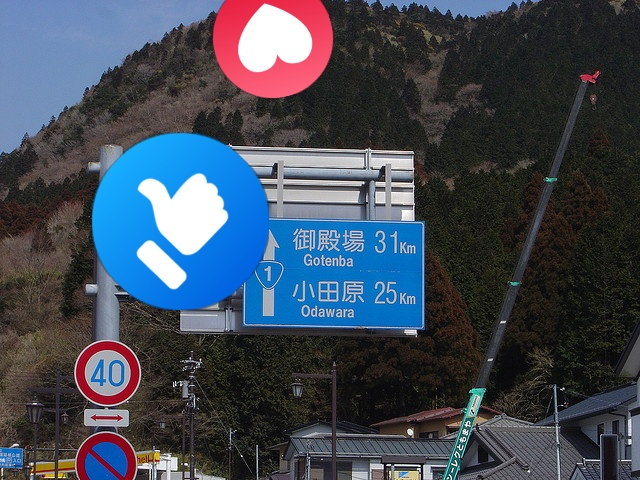like: (92, 133, 269, 310)
love: (213, 0, 333, 98)
